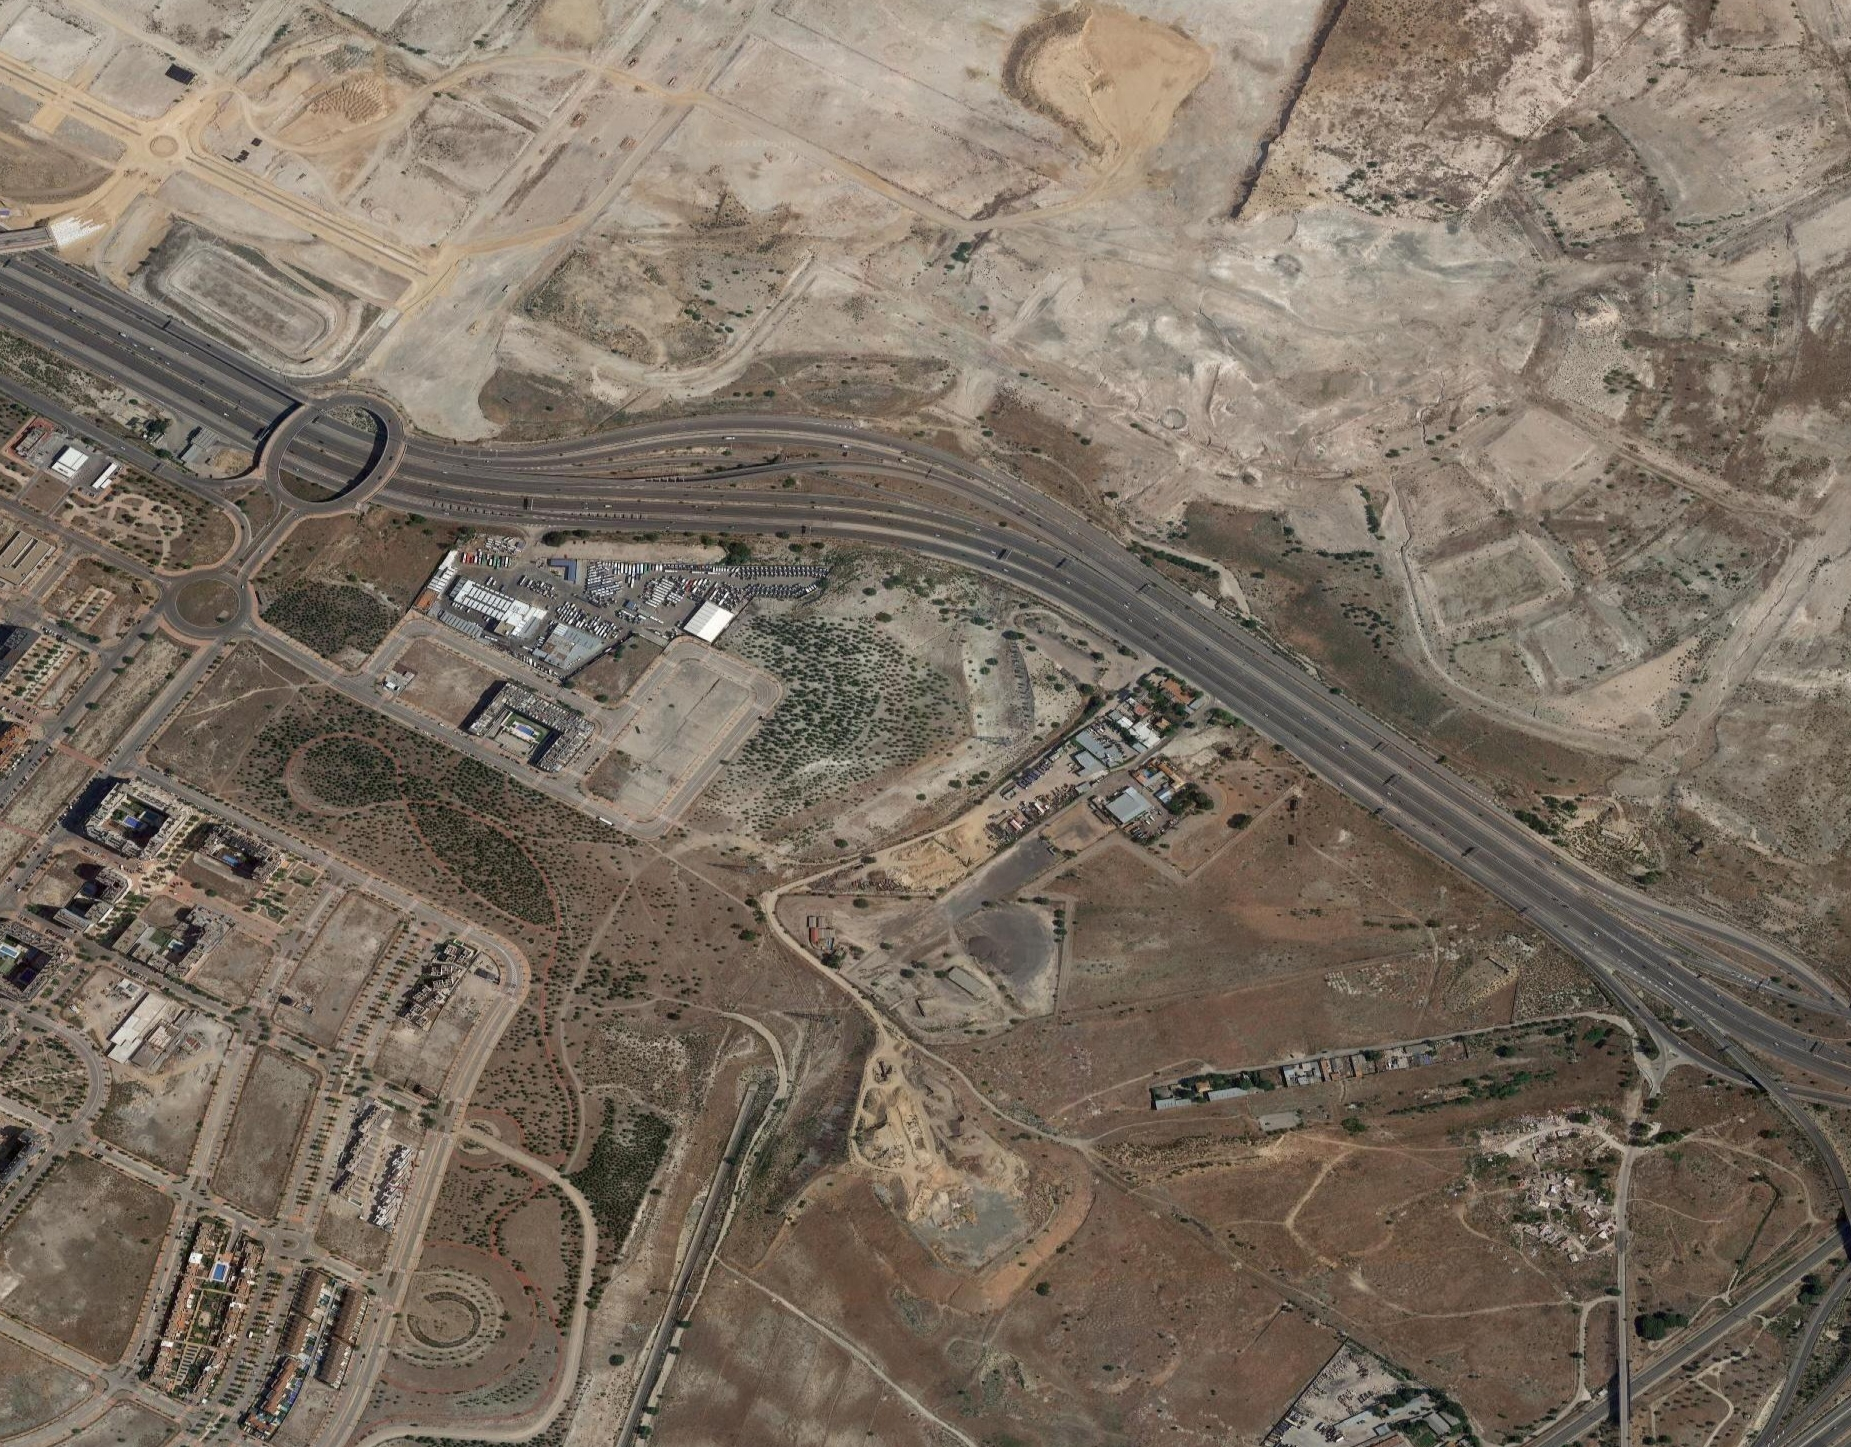bridge: (1602, 1346, 1659, 1430)
motorway: (621, 377, 1367, 798), (1312, 697, 1851, 1171), (2, 245, 648, 560)
